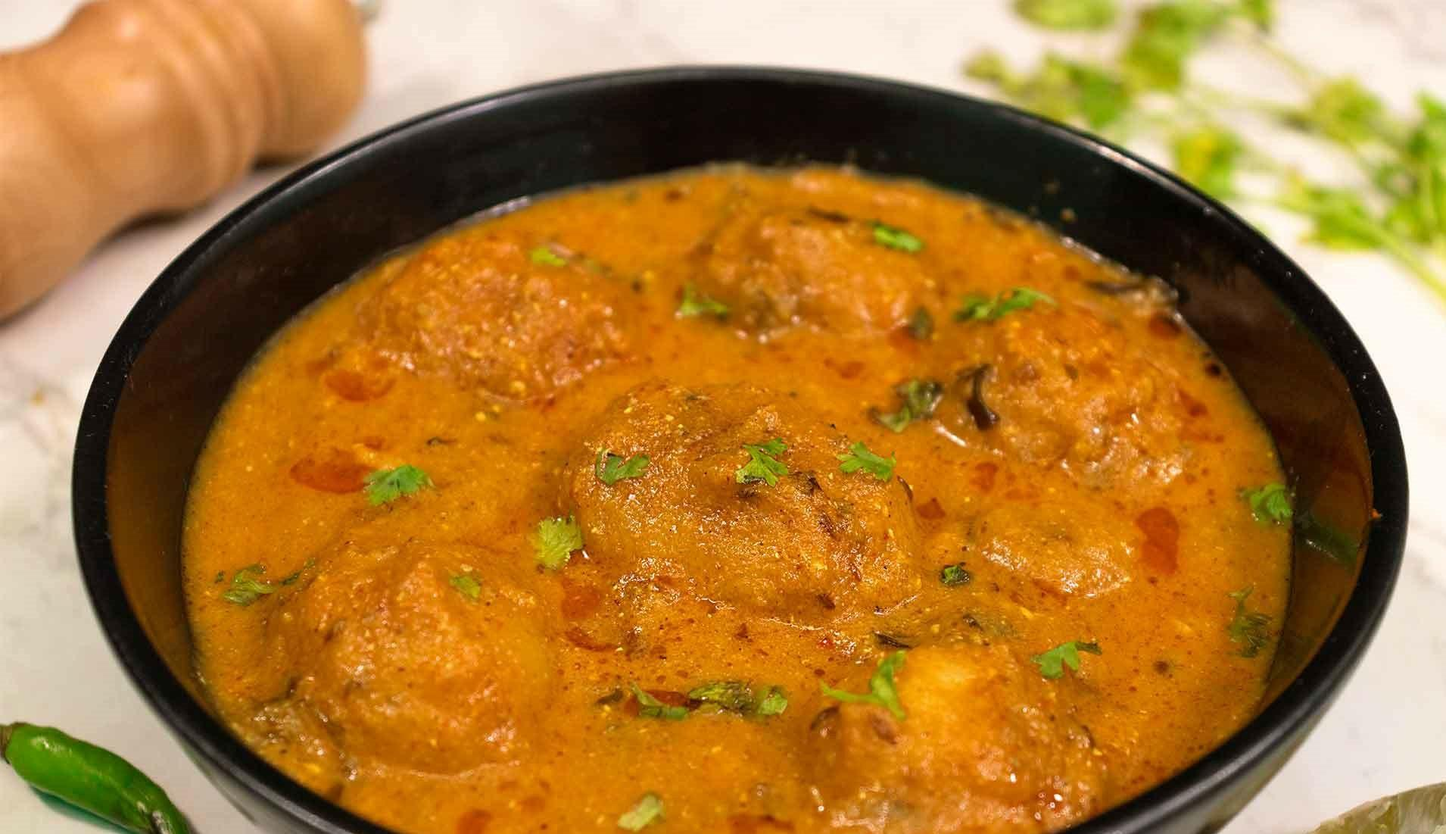DumAloo: (179, 167, 1293, 834)
